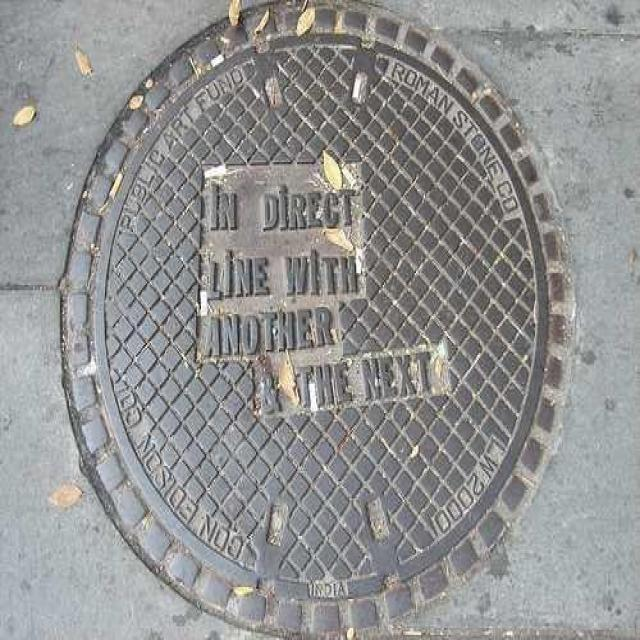manhole: (60, 0, 573, 633)
